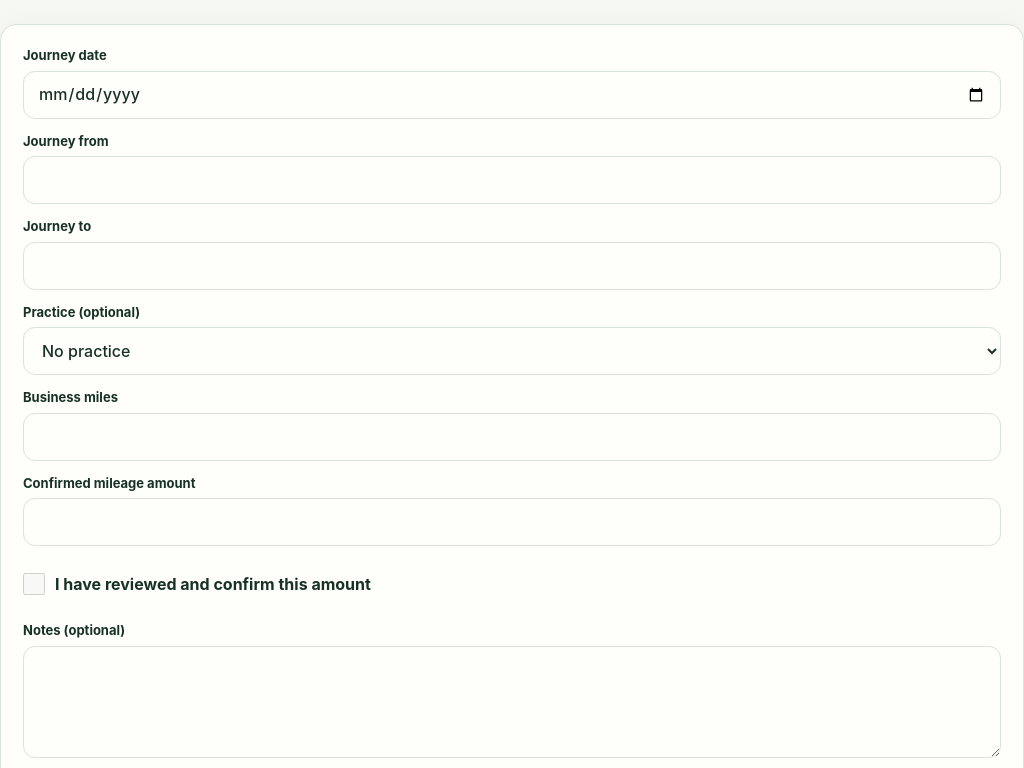
Scenario: MileageForm › shows the verified threshold split and an editable suggested amount
The width and height of the screenshot is (1024, 768).
In the date field labelled "Journey date": (512, 94) [23, 70, 1001, 118], type "2026-08-12"
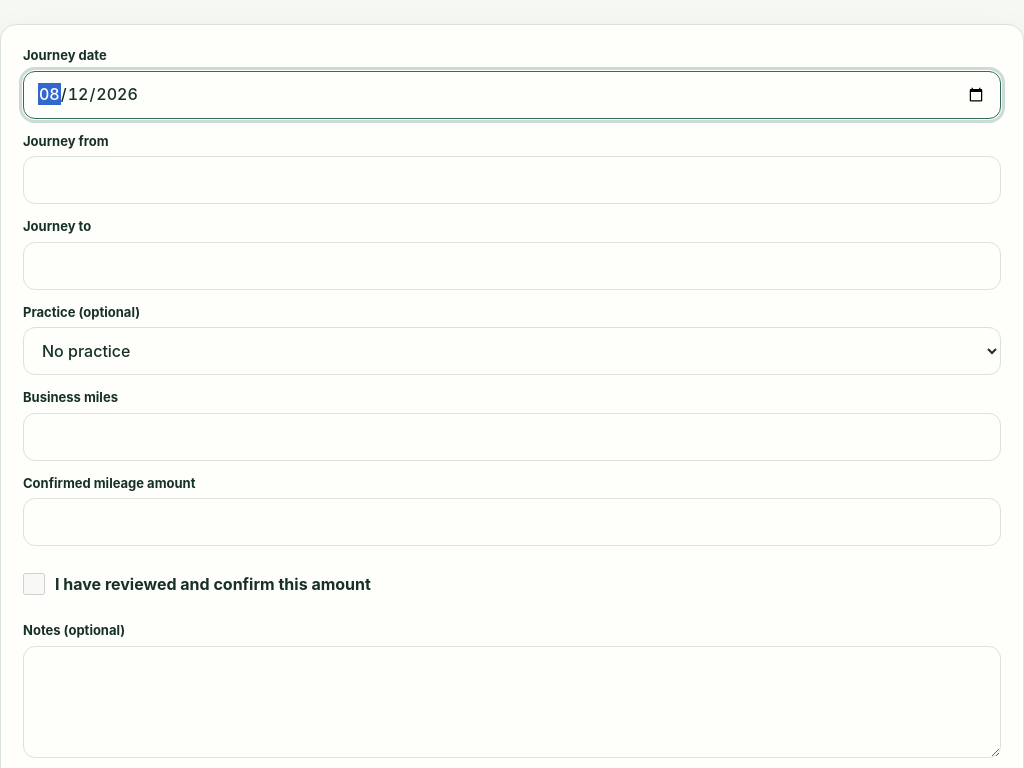
In the field labelled "Journey from": (512, 180) [23, 156, 1001, 204], type "Fictional Home"
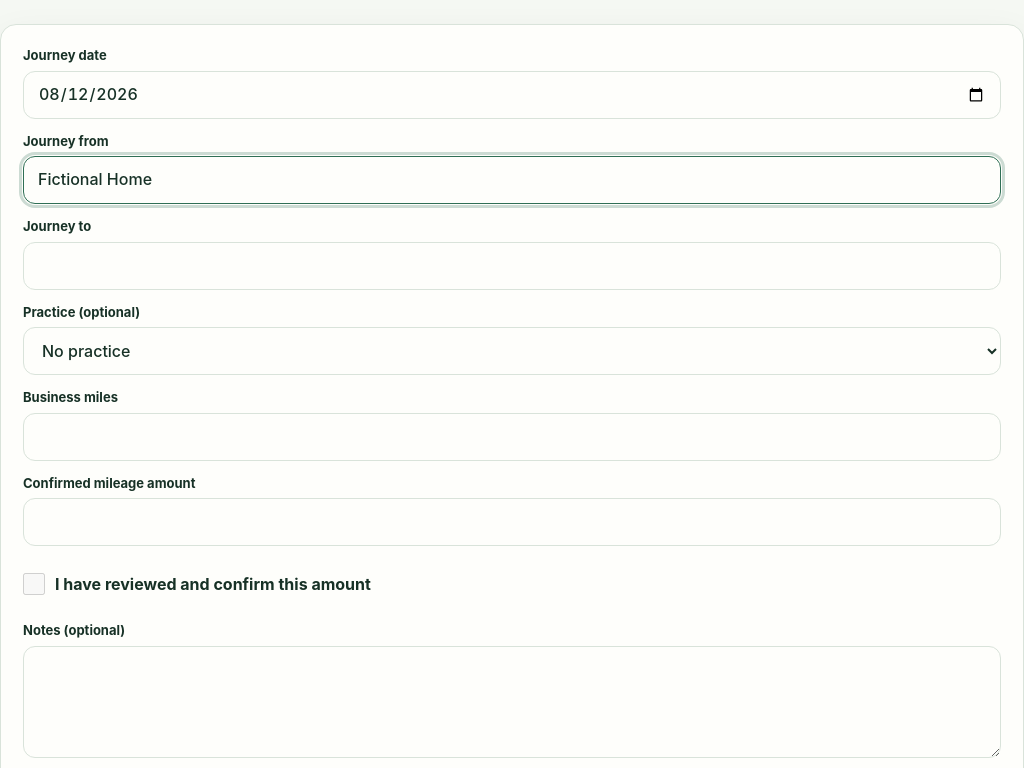
In the field labelled "Journey to": (512, 266) [23, 242, 1001, 290], type "Fictional Riverside Practice"
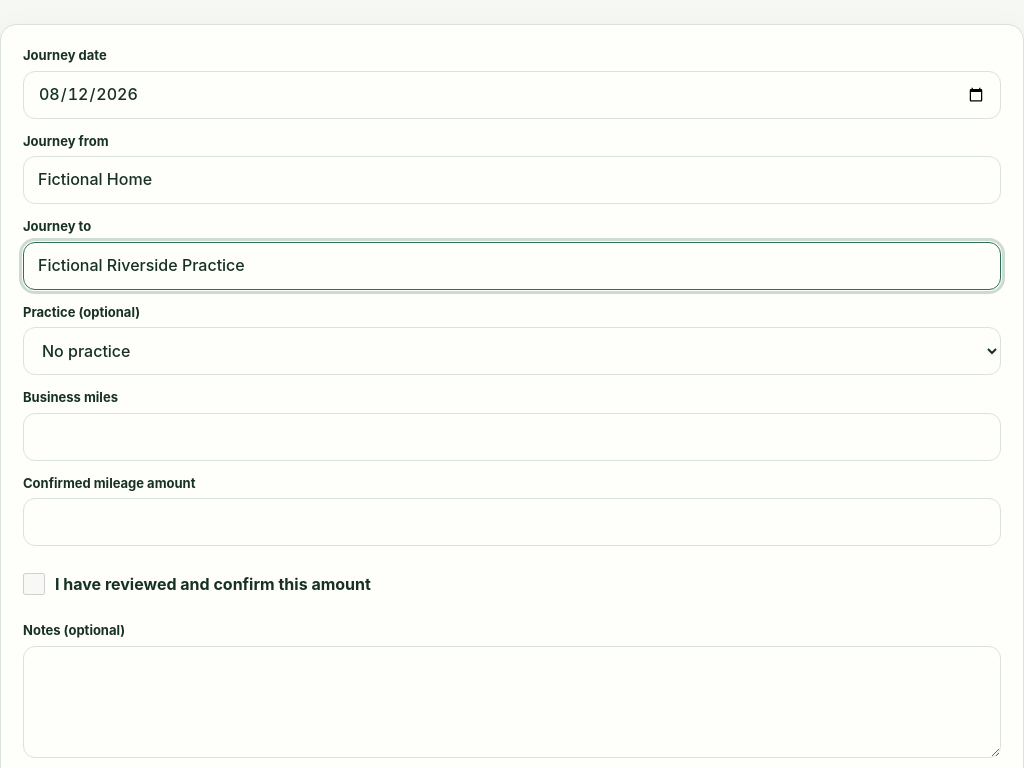
In the number field labelled "Business miles": (512, 437) [23, 413, 1001, 461], type "20"
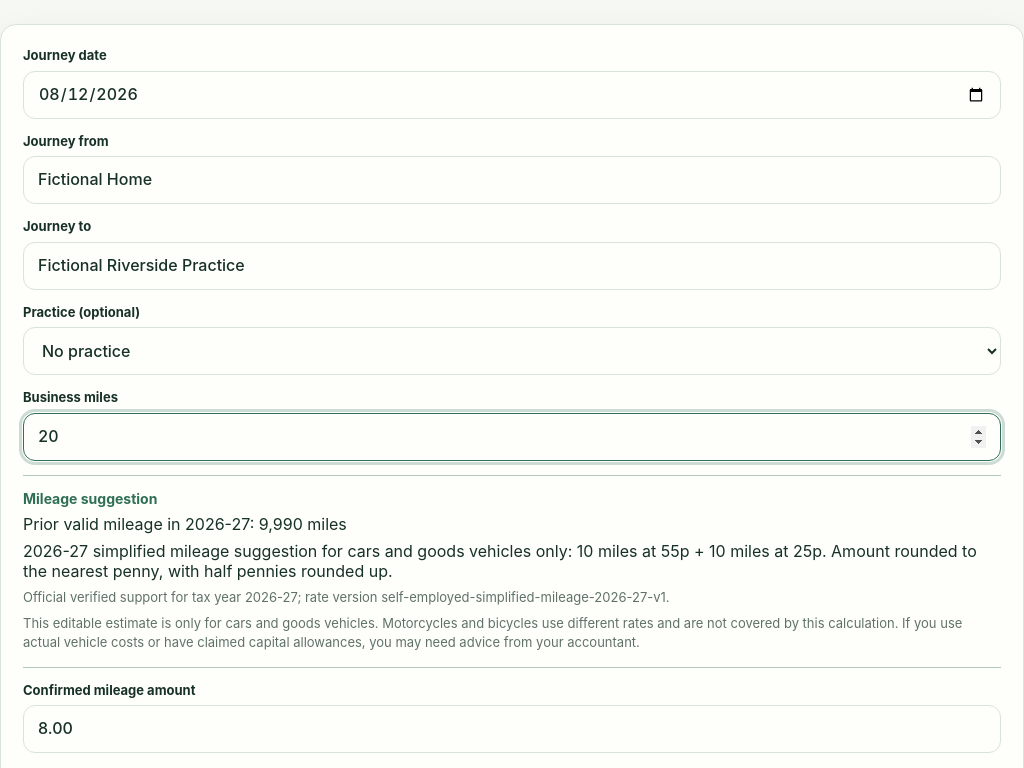
Expected: the text "Prior valid mileage in 2026-27: 9,990 miles" is shown, [23, 514, 347, 534]
Expected: the text "10 miles at 25p" is shown, [23, 541, 977, 581]
Expected: the field labelled "Confirmed mileage amount" holds "8.00", [23, 705, 1001, 753]
